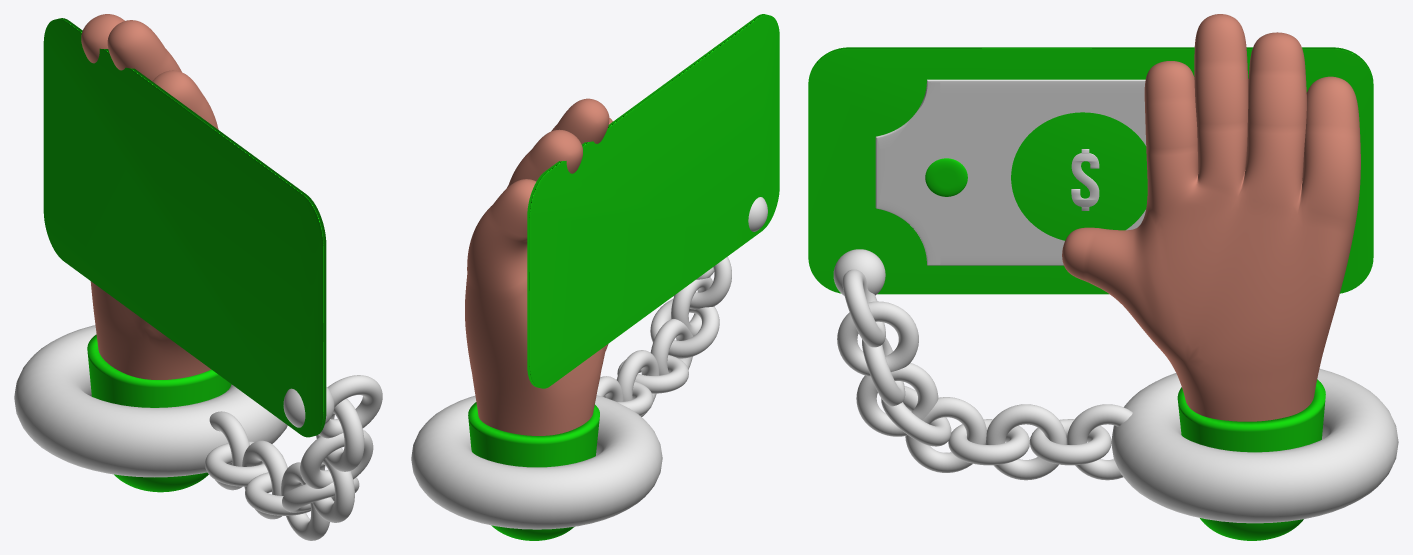
Rendered from debt-6507821-3.fbx.
3 renders of one model, left to right at view 1: azimuth 30°, elevation 25°; view 2: azimuth 150°, elevation 25°; view 3: azimuth 270°, elevation 25°, orthographic. The views are drawn at different scales.
Parts seen in each view (by area): view 1: Cube.002, BezierCircle, Cube.004, Cube.008, BezierCircle.010, BezierCircle.008, BezierCircle.009, BezierCircle.007, BezierCircle.002, BezierCircle.005, BezierCircle.003, BezierCircle.001 (+3 smaller); view 2: Cube.002, Cube.004, BezierCircle, Cube.008, BezierCircle.006, BezierCircle.003, BezierCircle.005, BezierCircle.004, BezierCircle.007, BezierCircle.008, BezierCircle.002, BezierCircle.001 (+1 smaller); view 3: Cube.004, Cube.002, Cube.003, BezierCircle, Cylinder.003, Cube.008, BezierCircle.009, BezierCircle.003, BezierCircle.005, BezierCircle.007, BezierCircle.001, BezierCircle.002 (+7 smaller).
Boxes of the visible parts, x1=… form: Cube.002: x1=43, y1=18, x2=326, y2=437; BezierCircle: x1=14, y1=325, x2=287, y2=477; Cube.004: x1=81, y1=14, x2=218, y2=379; Cube.008: x1=87, y1=334, x2=231, y2=492; BezierCircle.010: x1=318, y1=375, x2=382, y2=438; BezierCircle.008: x1=300, y1=429, x2=373, y2=488; BezierCircle.009: x1=316, y1=398, x2=364, y2=471; BezierCircle.007: x1=312, y1=458, x2=354, y2=522; BezierCircle.002: x1=205, y1=441, x2=283, y2=486; BezierCircle.005: x1=281, y1=462, x2=329, y2=540; BezierCircle.003: x1=242, y1=440, x2=287, y2=519; BezierCircle.001: x1=209, y1=411, x2=249, y2=490; Cube.002: x1=527, y1=14, x2=779, y2=388; Cube.004: x1=465, y1=98, x2=612, y2=435; BezierCircle: x1=411, y1=395, x2=662, y2=529; Cube.008: x1=468, y1=402, x2=599, y2=540; BezierCircle.006: x1=650, y1=299, x2=719, y2=358; BezierCircle.003: x1=616, y1=350, x2=659, y2=416; BezierCircle.005: x1=650, y1=319, x2=693, y2=375; BezierCircle.004: x1=617, y1=355, x2=688, y2=393; BezierCircle.007: x1=671, y1=277, x2=714, y2=336; BezierCircle.008: x1=673, y1=256, x2=731, y2=309; BezierCircle.002: x1=604, y1=379, x2=653, y2=415; BezierCircle.001: x1=596, y1=376, x2=623, y2=401; Cube.004: x1=1062, y1=14, x2=1360, y2=421; Cube.002: x1=808, y1=47, x2=1373, y2=294; Cube.003: x1=875, y1=79, x2=1146, y2=265; BezierCircle: x1=1111, y1=368, x2=1398, y2=523; Cylinder.003: x1=1011, y1=112, x2=1147, y2=240; Cube.008: x1=1177, y1=379, x2=1325, y2=540; BezierCircle.009: x1=837, y1=301, x2=918, y2=376; BezierCircle.003: x1=985, y1=404, x2=1066, y2=480; BezierCircle.005: x1=905, y1=397, x2=986, y2=472; BezierCircle.007: x1=856, y1=363, x2=938, y2=436; BezierCircle.001: x1=1066, y1=404, x2=1132, y2=480; BezierCircle.002: x1=1030, y1=419, x2=1111, y2=465.
Size of the model in its own units: 345 by 654 by 708.
